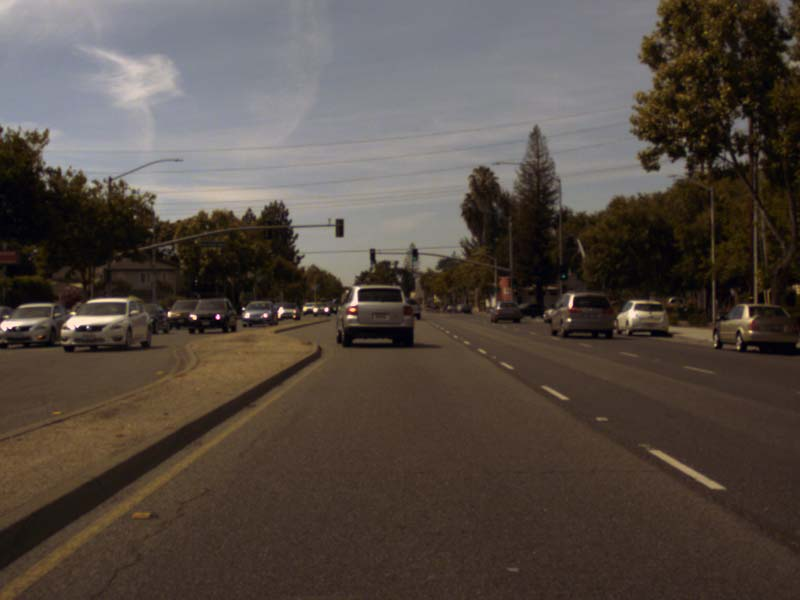Green: (560, 266, 566, 279), (412, 249, 416, 260), (512, 280, 516, 288)
Red: (370, 249, 373, 260)
